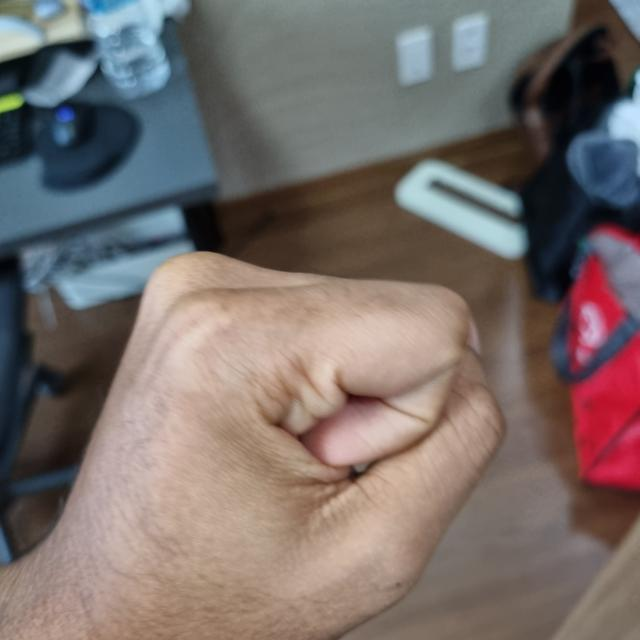Rock: (1, 263, 497, 639)
